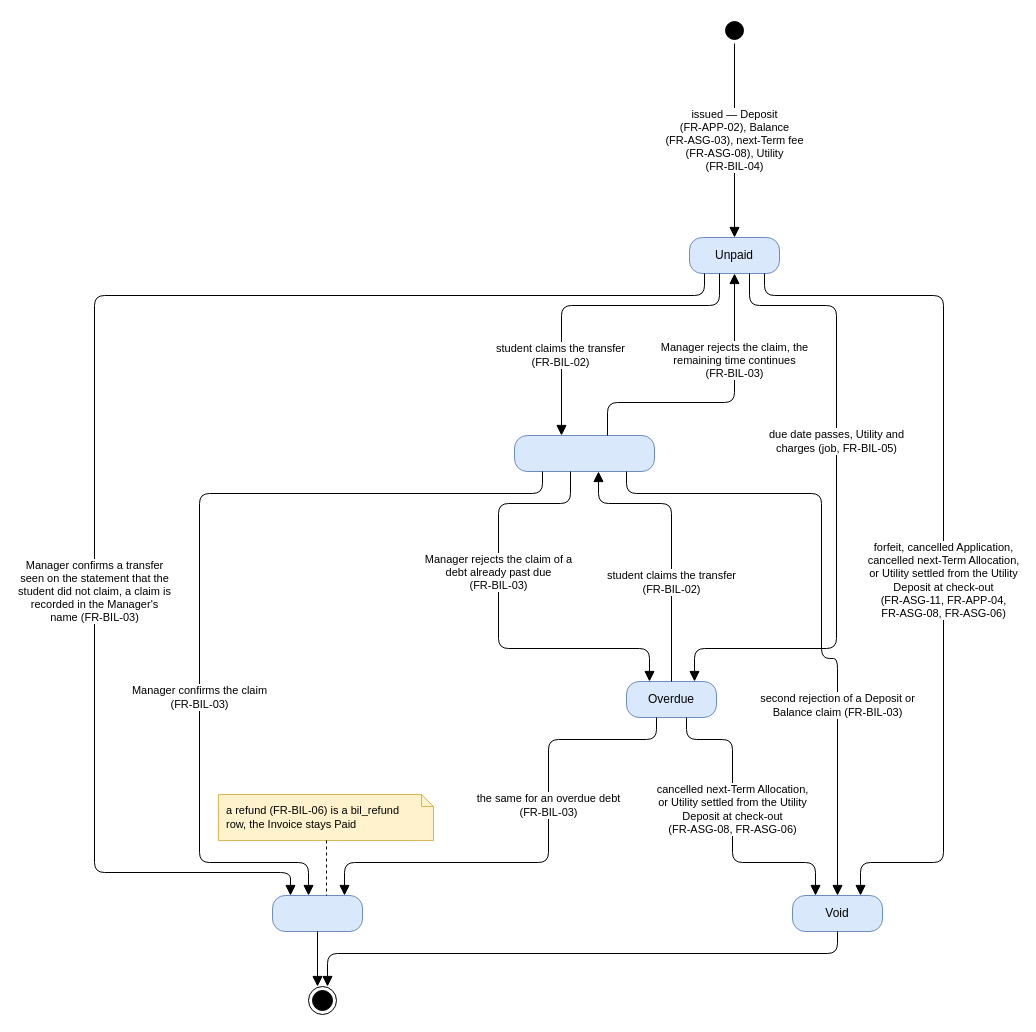
Some shapes in this 1036 by 1032 pixel diagram are drawn without their labels. Each missing label, with the box of its shape:
Awaiting confirmation: (514, 434, 654, 472)
Paid: (272, 894, 362, 932)
